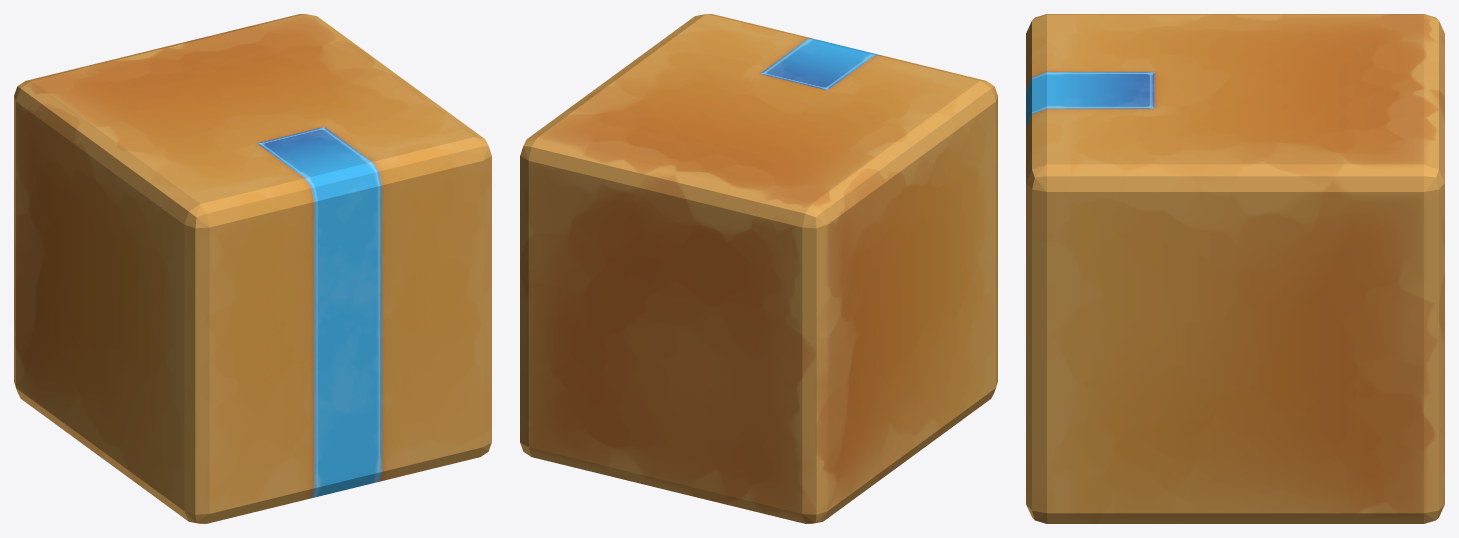
Rendered from interior.obj.
3 renders of one model, left to right at view 1: azimuth 30°, elevation 25°; view 2: azimuth 150°, elevation 25°; view 3: azimuth 270°, elevation 25°, orthographic. The views are drawn at different scales.
Bounding box in the file's own units: 0.054 × 0.054 × 0.0571.
Materials: 1 (1 with a texture image).
